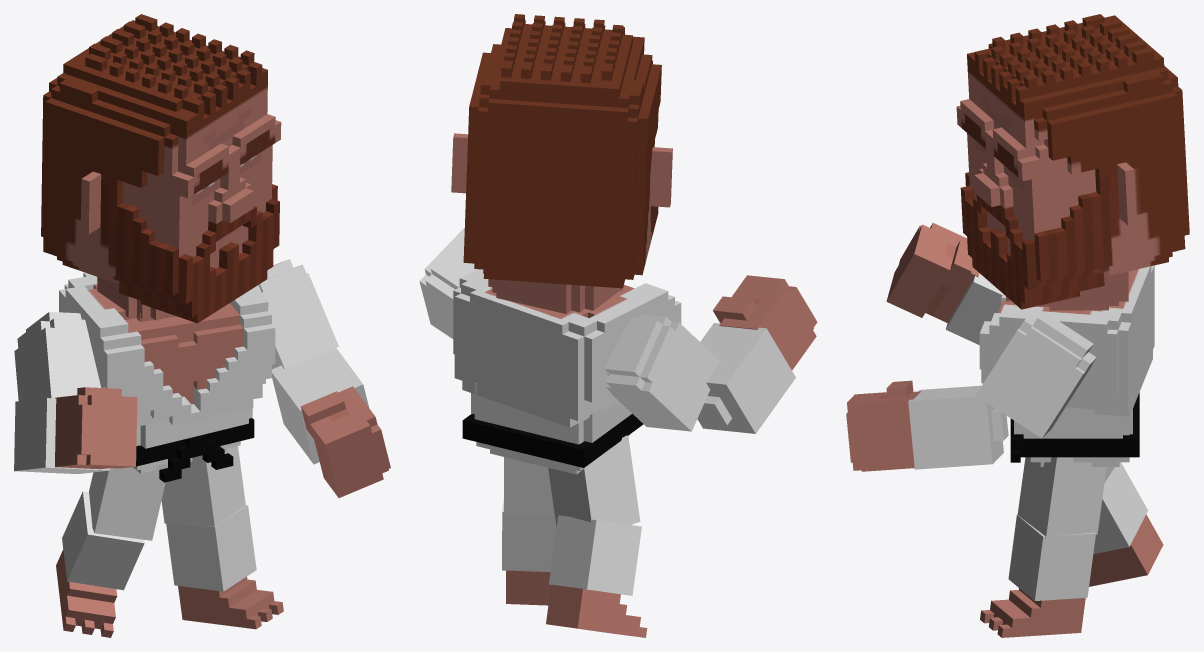
File: judo.fbx
The picture shows the model from 3 angles, left to right: view 1: azimuth 30°, elevation 25°; view 2: azimuth 150°, elevation 25°; view 3: azimuth 270°, elevation 25°; orthographic projection.
Parts seen in each view (by area): view 1: judo; view 2: judo; view 3: judo.
Part boxes in pixels (box(x1,y1,x2,y2)): judo: box(14, 14, 390, 637); judo: box(419, 14, 817, 637); judo: box(846, 14, 1189, 637).
Bounding box in the file's own units: 373 × 639 × 347.
Materials: 1 (1 with a texture image).
